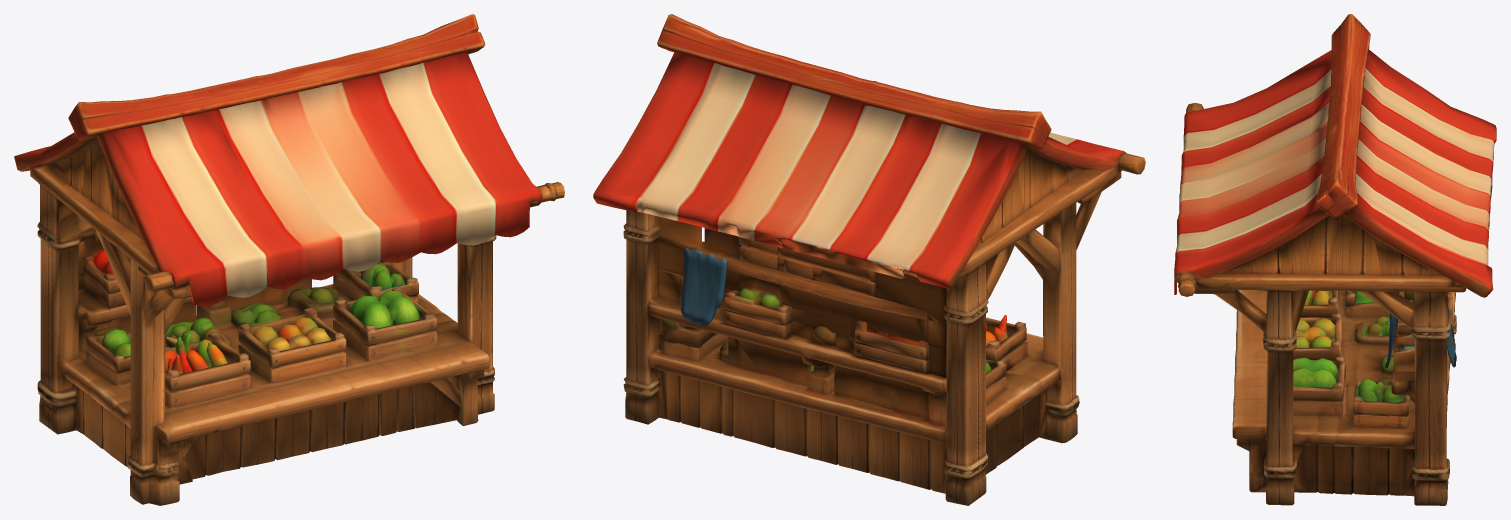
The model's file is market-stall.glb.
The picture shows the model from 3 angles, left to right: view 1: azimuth 30°, elevation 25°; view 2: azimuth 150°, elevation 25°; view 3: azimuth 270°, elevation 25°; orthographic projection. The views are drawn at different scales.
Visible parts, largest first — view 1: tripo_node_afc0606e-e950-43ba-b65a-7eda6ec8d9a8; view 2: tripo_node_afc0606e-e950-43ba-b65a-7eda6ec8d9a8; view 3: tripo_node_afc0606e-e950-43ba-b65a-7eda6ec8d9a8.
Part boxes in pixels (x1=…): tripo_node_afc0606e-e950-43ba-b65a-7eda6ec8d9a8: x1=14, y1=14, x2=564, y2=505; tripo_node_afc0606e-e950-43ba-b65a-7eda6ec8d9a8: x1=593, y1=14, x2=1145, y2=505; tripo_node_afc0606e-e950-43ba-b65a-7eda6ec8d9a8: x1=1174, y1=14, x2=1496, y2=505.
Bounding box in the file's own units: 0.979 × 0.8448 × 0.7414.
Materials: 1 (1 with a texture image).
